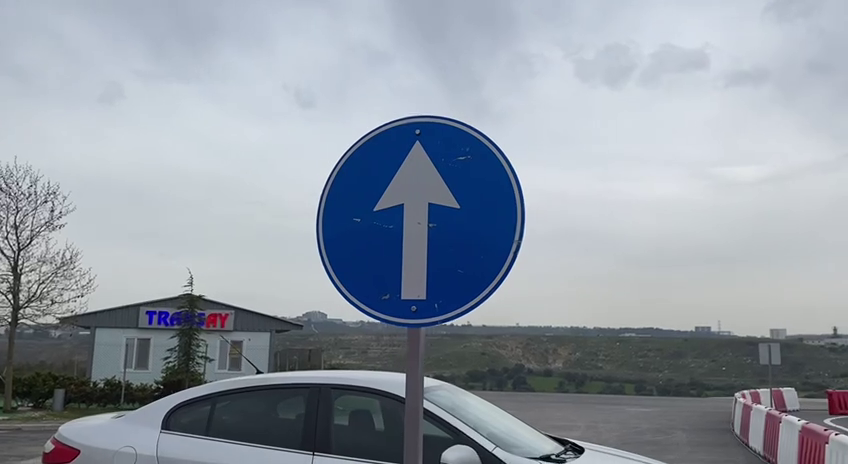forward: (309, 110, 532, 335)
